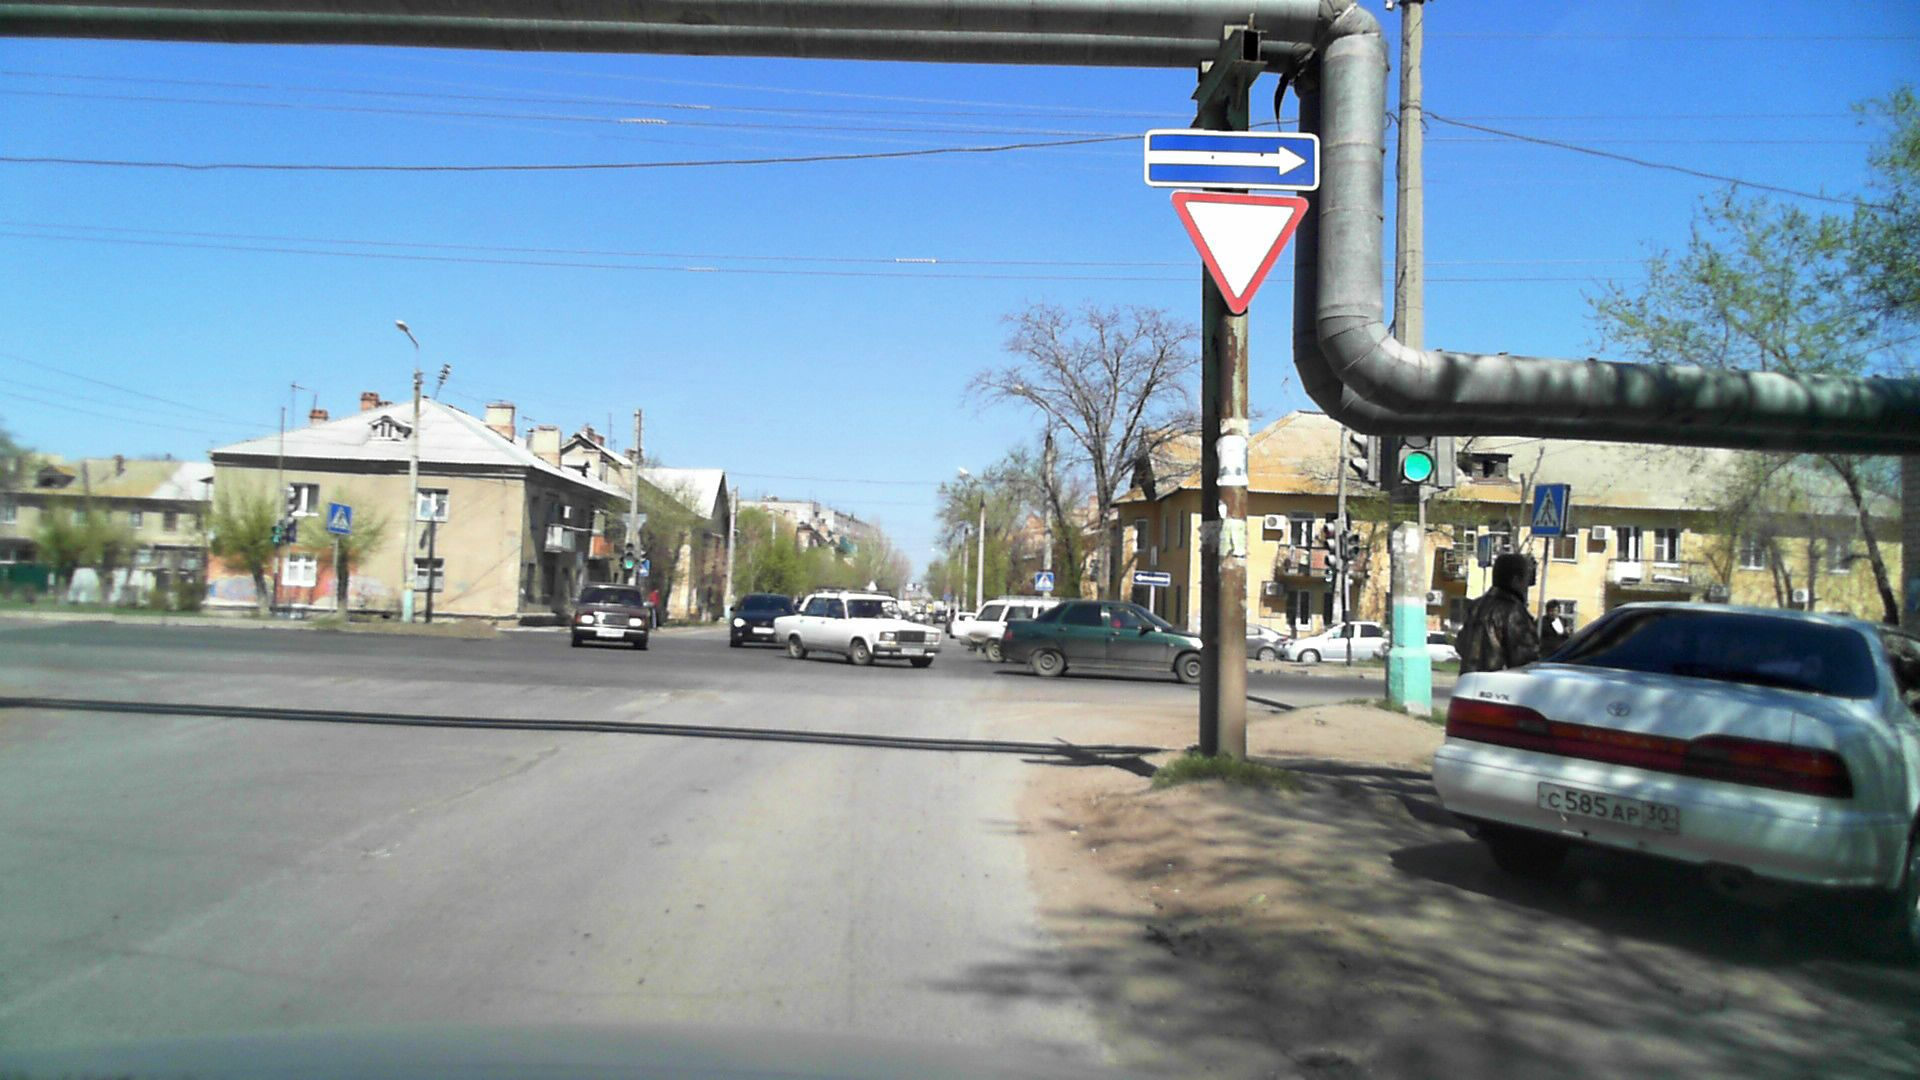One-Way Traffic: (1145, 129, 1319, 190), (1134, 574, 1170, 585)
